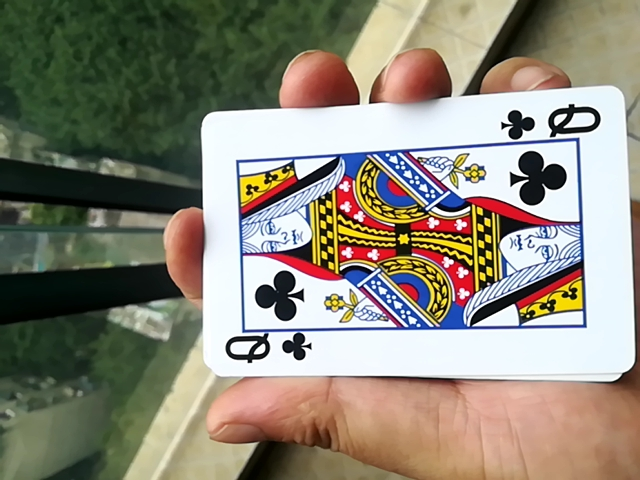mh q: (176, 94, 626, 391)
